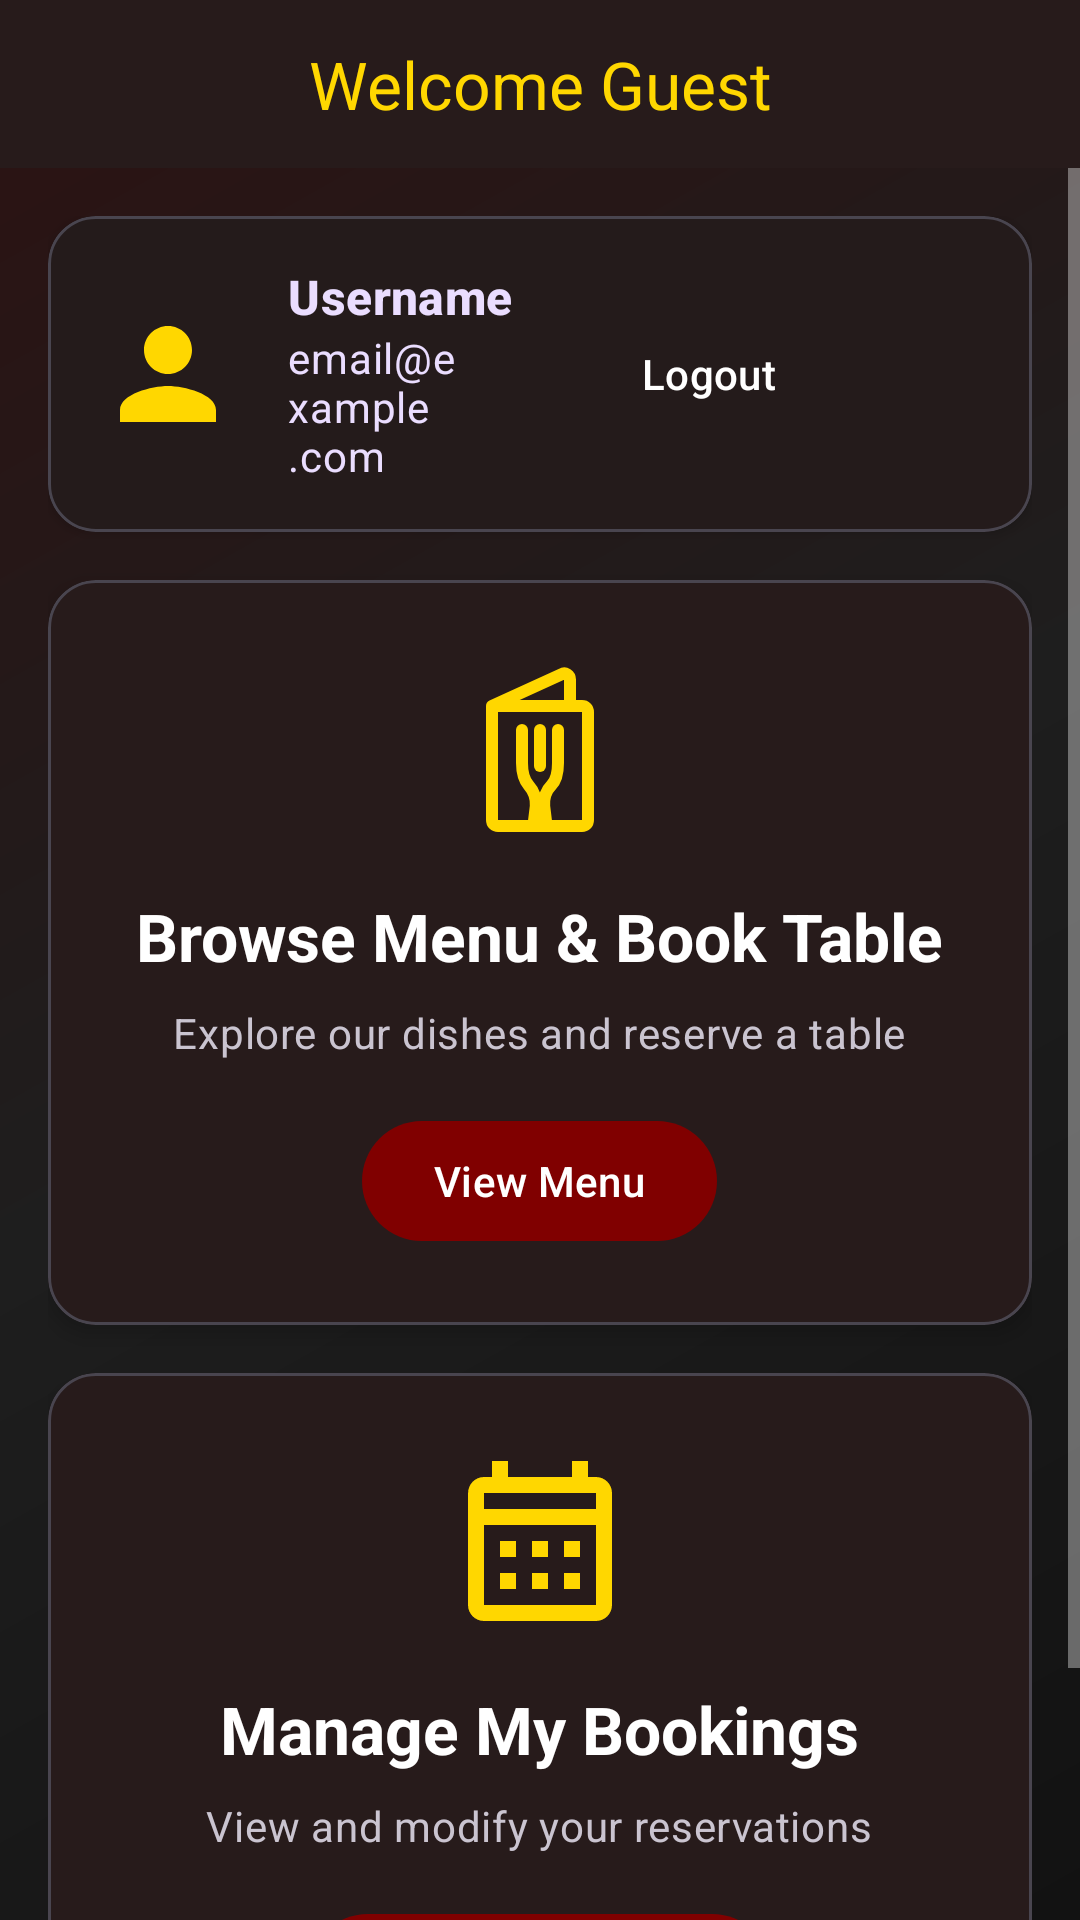

Icons on this 1080w x 1920h Android screen, each with the point to tap as (x=x, y=y):
event: (x=540, y=1541)
person: (x=168, y=374)
restaurant menu: (x=540, y=749)
